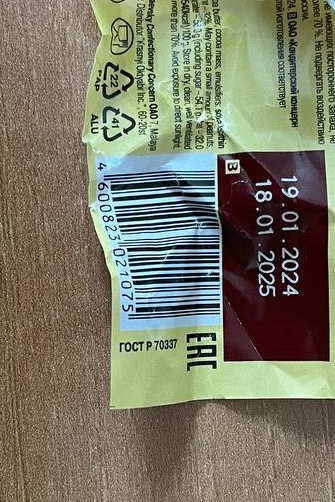1d: (109, 170, 221, 319)
